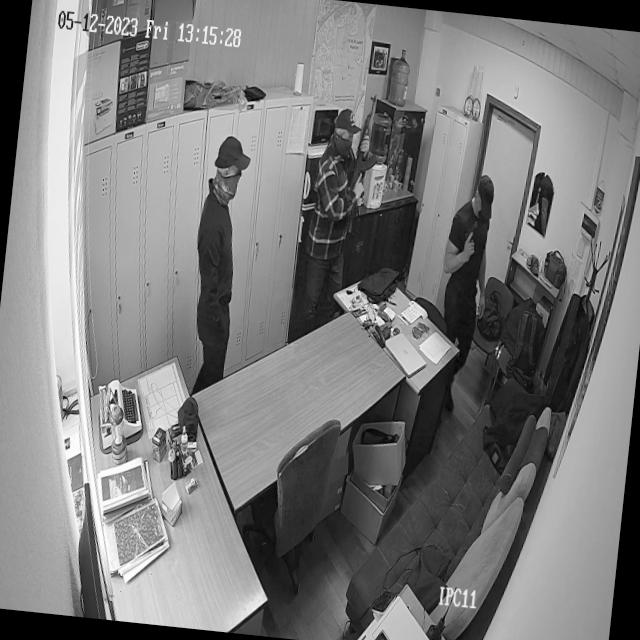gun: (343, 90, 382, 208), (462, 221, 480, 260)
person: (181, 130, 255, 370), (438, 167, 498, 319)
person with a gun: (298, 80, 385, 254), (438, 168, 499, 318)
